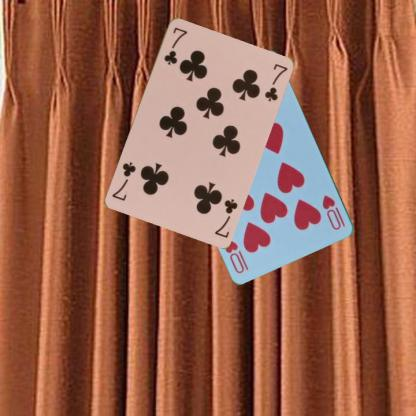10h: (320, 192, 347, 232)
7c: (211, 195, 238, 239), (162, 24, 188, 66)
